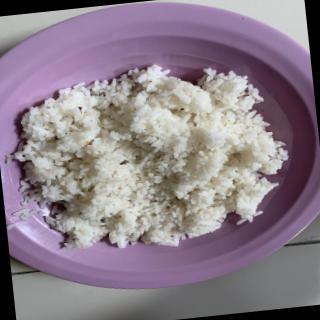Nasi: (1, 52, 297, 265)
